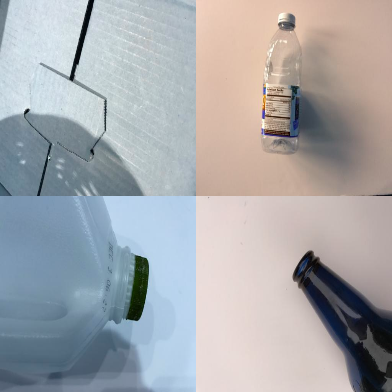cardboard: (1, 1, 196, 196)
glass: (290, 250, 391, 392)
plastic: (1, 196, 149, 375), (260, 11, 303, 154)
